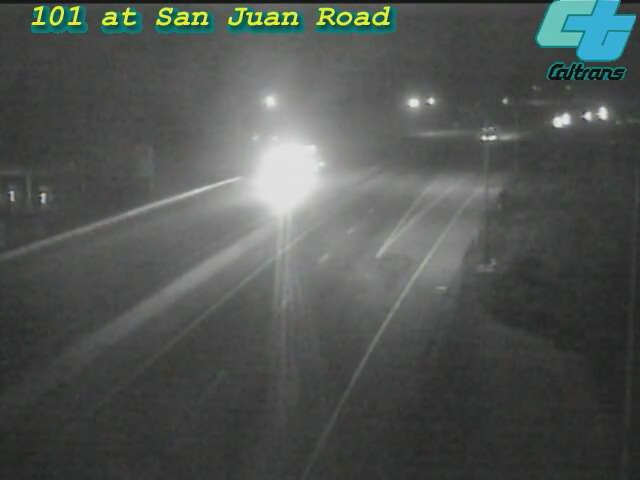vehicle: (243, 134, 323, 214), (533, 99, 583, 149), (464, 108, 514, 158), (541, 93, 591, 143), (579, 88, 629, 138), (561, 91, 611, 141)
